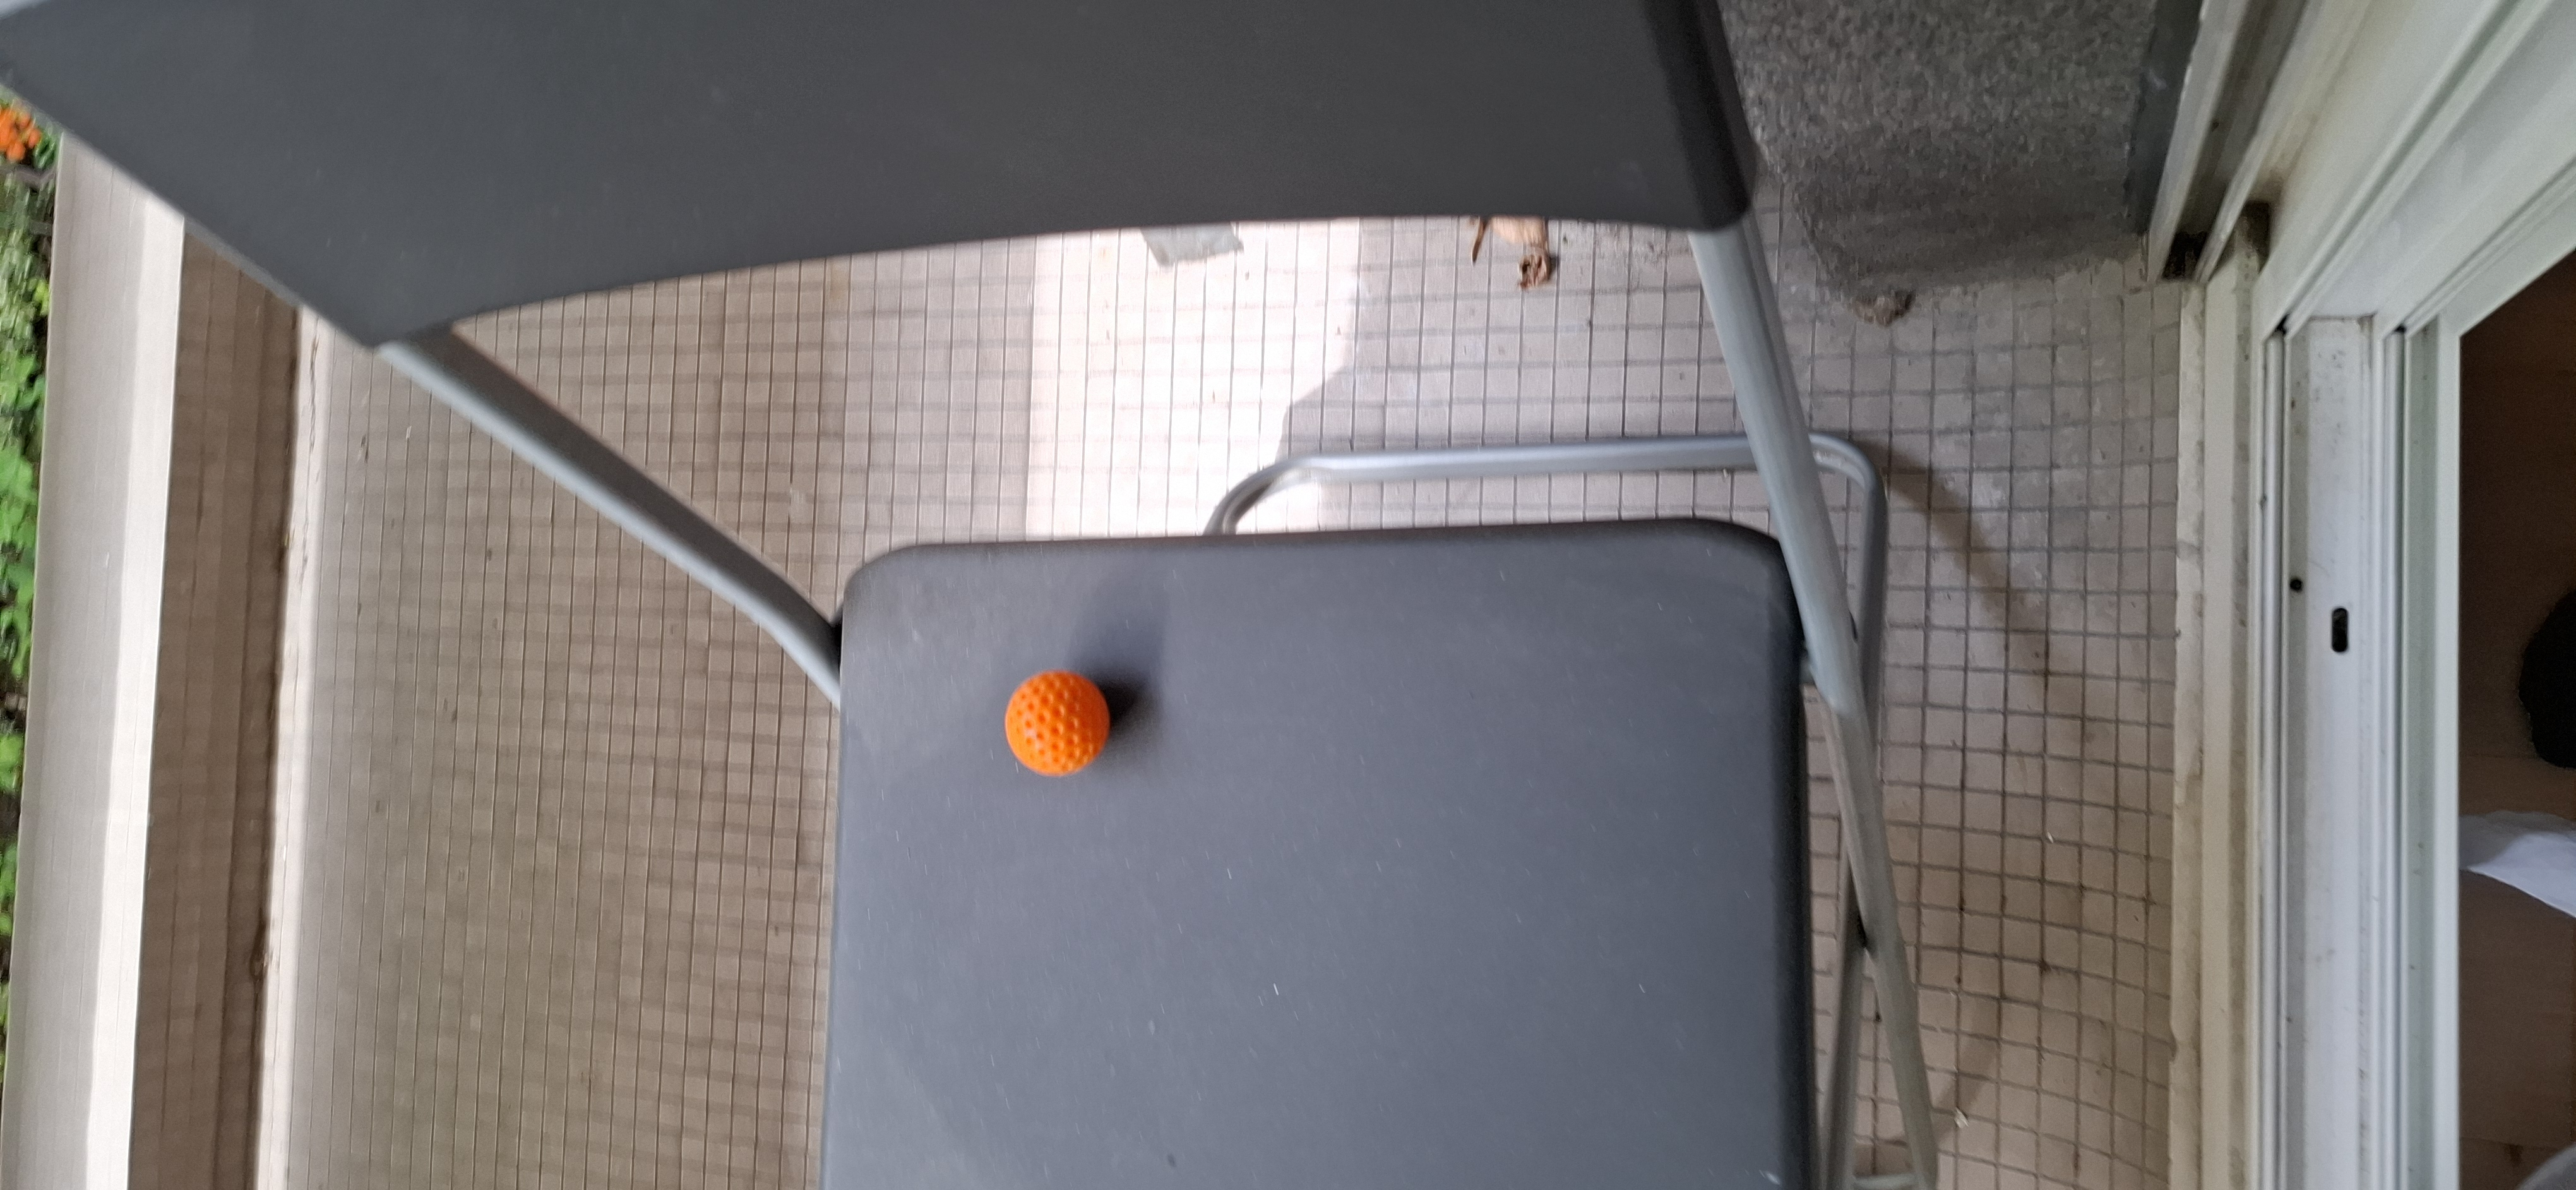ball: (1004, 671, 1111, 774)
